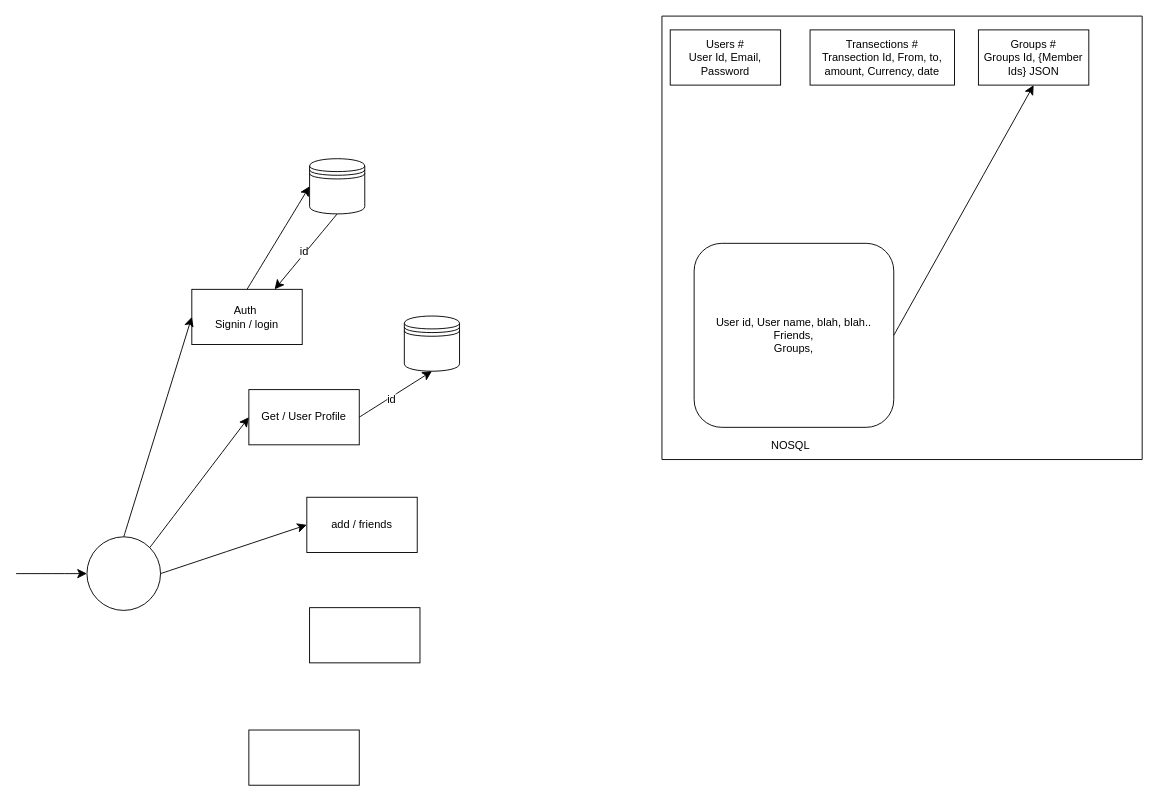
Some shapes in this 1158 by 801 pixel diagram are drawn without their labels. The centre of each missing label's shape, as x and y in pixels:
"Gateway" belongs at [123,573].
"Mongo" belongs at [431,343].
"RDBS" belongs at [337,186].
